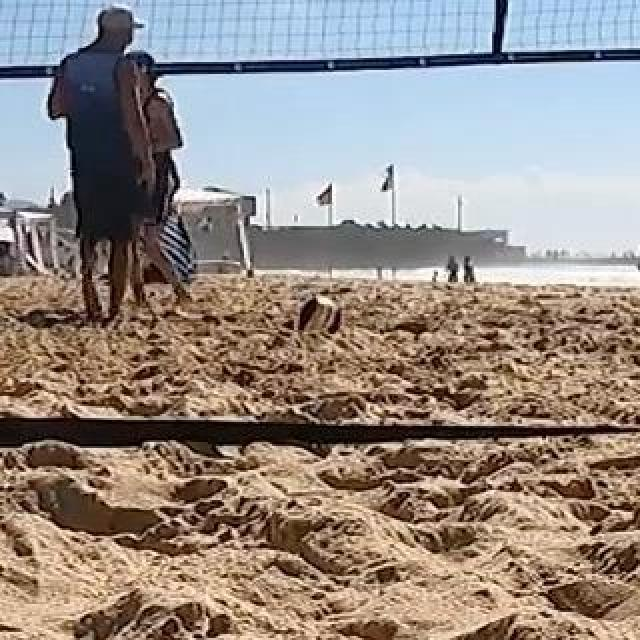volleyball: (295, 293, 343, 337)
